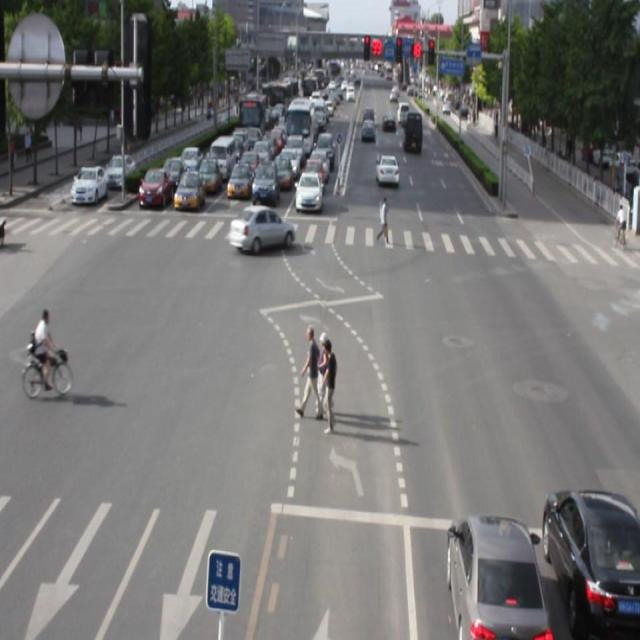car: (536, 492, 640, 640), (442, 516, 542, 640), (228, 205, 293, 252)
